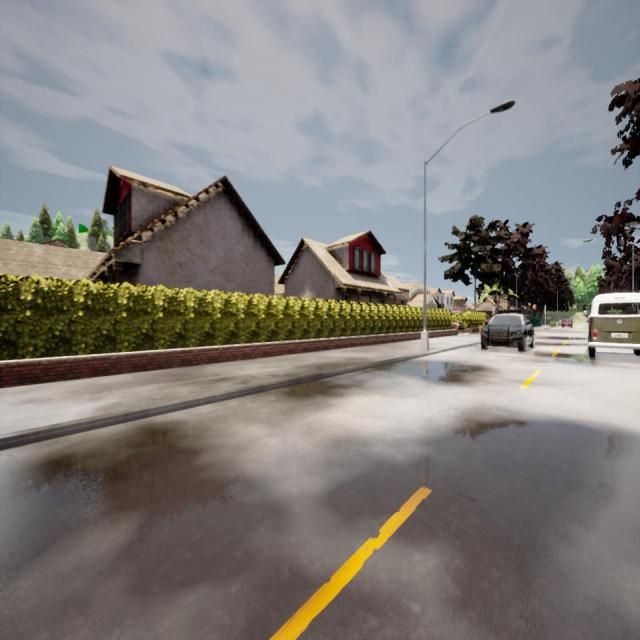Vehicle: (583, 293, 640, 359), (480, 312, 536, 352), (451, 320, 464, 330), (562, 318, 574, 328)
